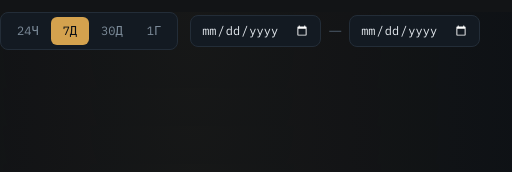
DateRangeFilter › сбрасывает значения инпутов кнопкой ✕
Type "2026-01-01" into the date field named "Дата от" at (256, 31), box [190, 15, 321, 47]
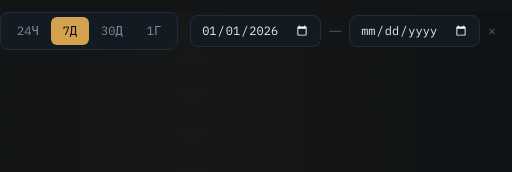
Type "2026-01-10" into the date field named "Дата до" at (415, 31), box [349, 15, 480, 47]
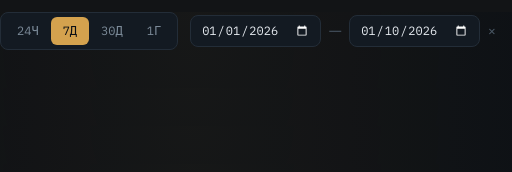
Click the button named "Сбросить даты" at (492, 31), box [488, 23, 495, 39]
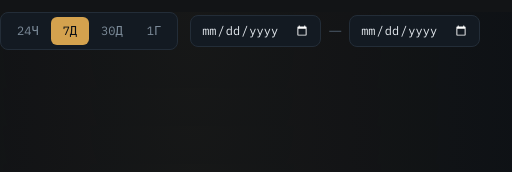
Check: the date field named "Дата от" is empty, box [190, 15, 321, 47]
Check: the date field named "Дата до" is empty, box [349, 15, 480, 47]
